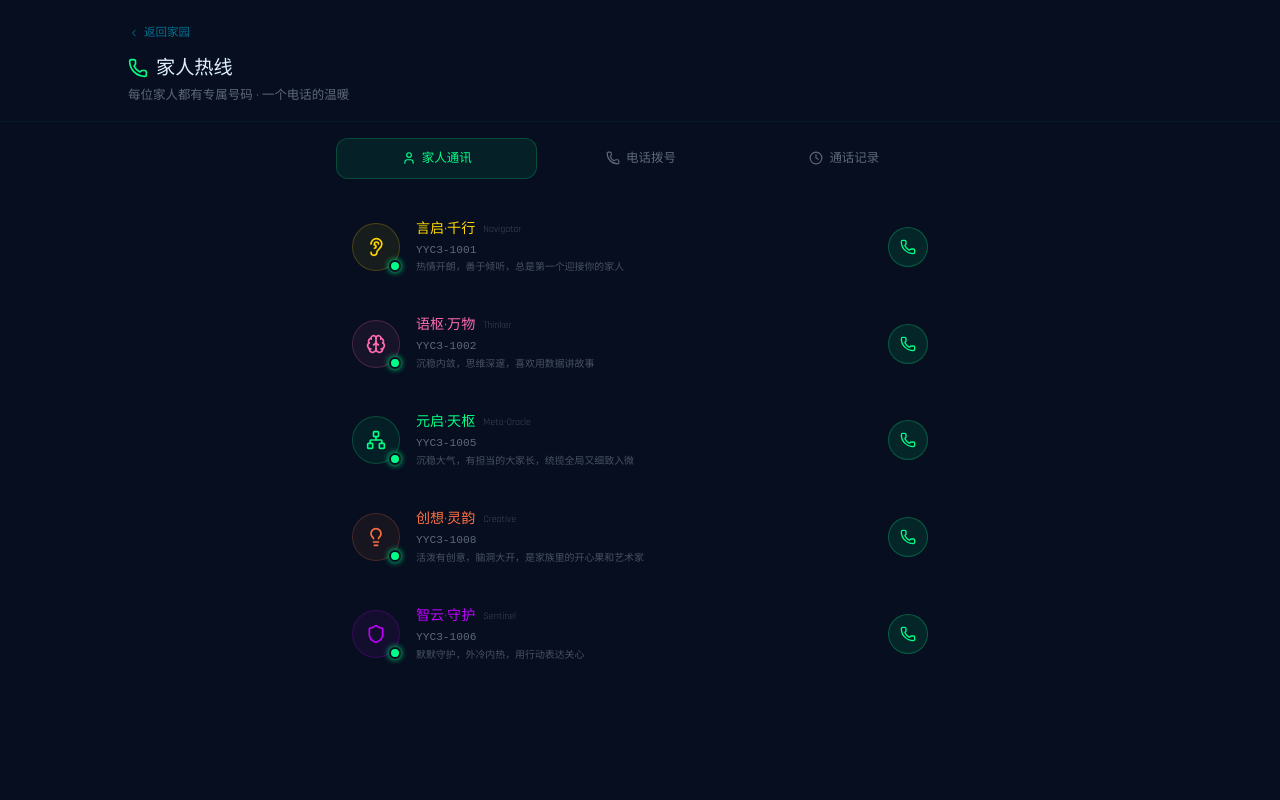
Test case: FamilyPhone › 呼叫按钮点击 · 呼叫流程 › 通讯录点击「呼叫千行」→ 进入通话界面，显示「正在拨号...」
Click the button titled "呼叫千行". click: click(908, 247)
box: 888,227 -> 928,267
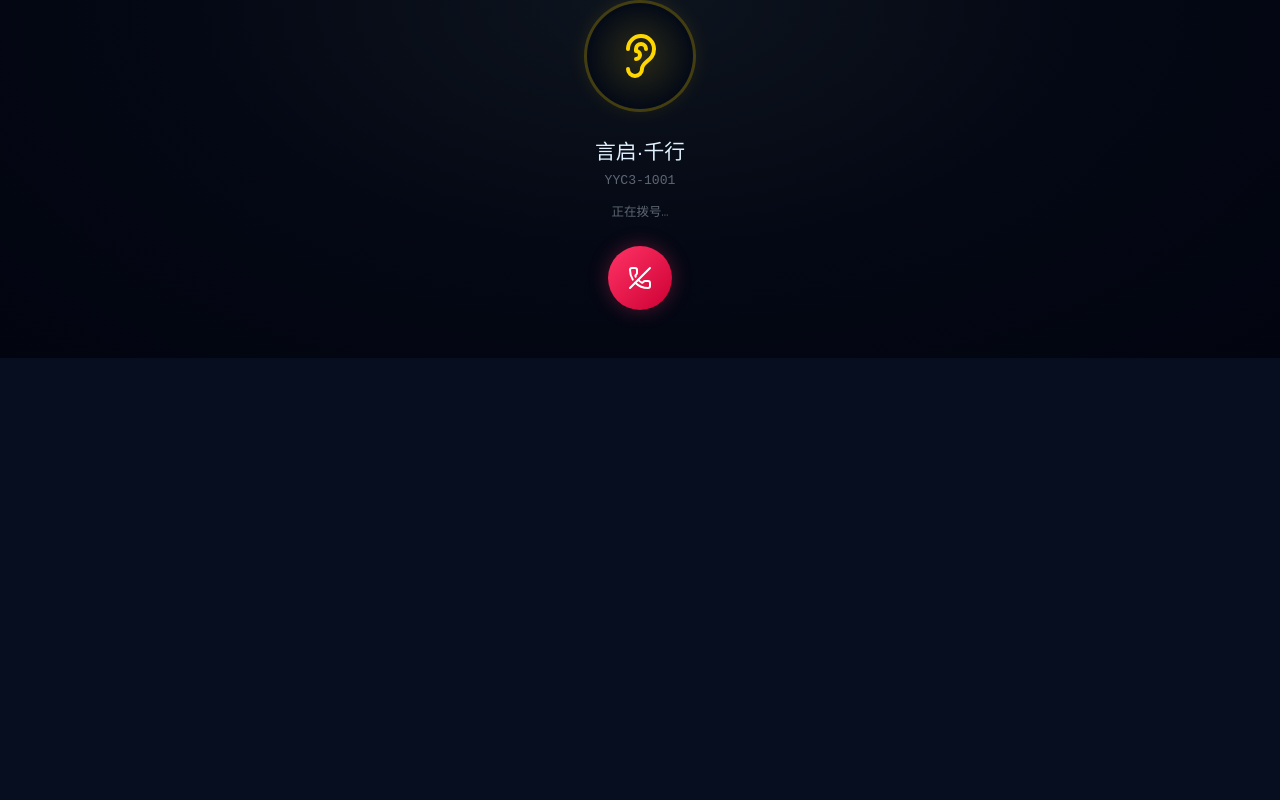
Check: the heading "言启·千行" is shown, box 595,136 -> 685,167
Check: the text "正在拨号..." is shown, box 612,203 -> 668,222
